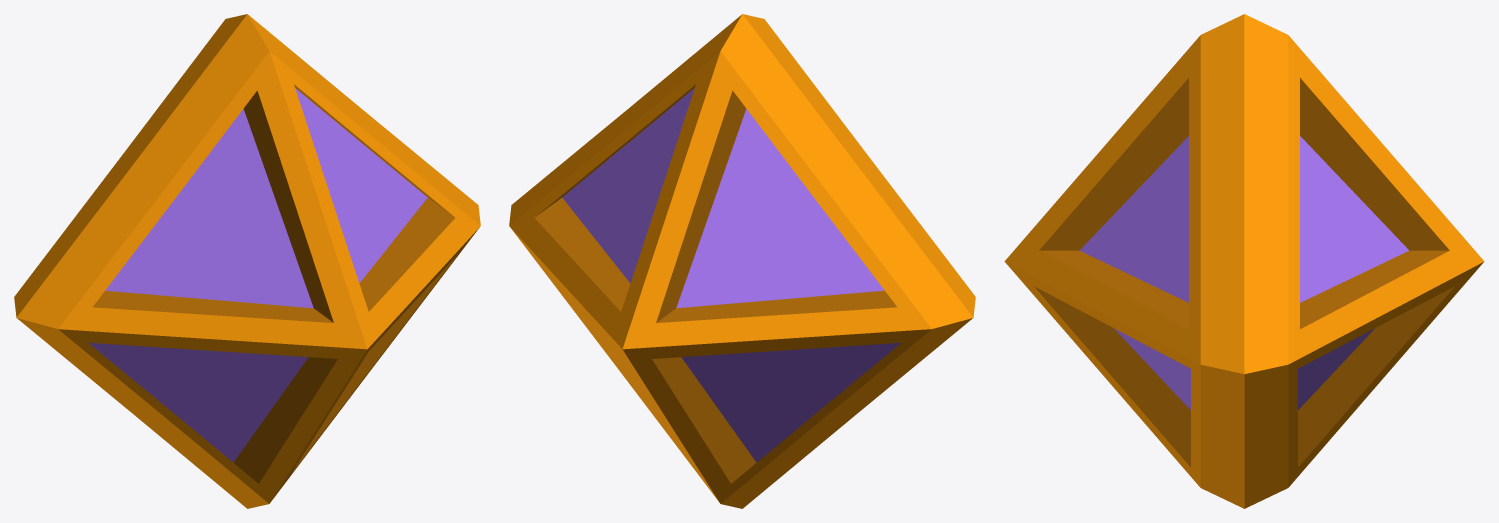
The model's file is Gem_10.glb.
3 renders of one model, left to right at view 1: azimuth 30°, elevation 25°; view 2: azimuth 150°, elevation 25°; view 3: azimuth 270°, elevation 25°, orthographic.
Visible parts, largest first — view 1: Gem_10; view 2: Gem_10; view 3: Gem_10.
Boxes of the visible parts, bbox=[...] form: Gem_10: bbox=[14, 14, 480, 508]; Gem_10: bbox=[509, 14, 975, 508]; Gem_10: bbox=[1004, 14, 1484, 508].
Size of what is drawn, in the model's own units: 0.3913 by 0.4005 by 0.352.
Materials: 1 (1 with a texture image).
